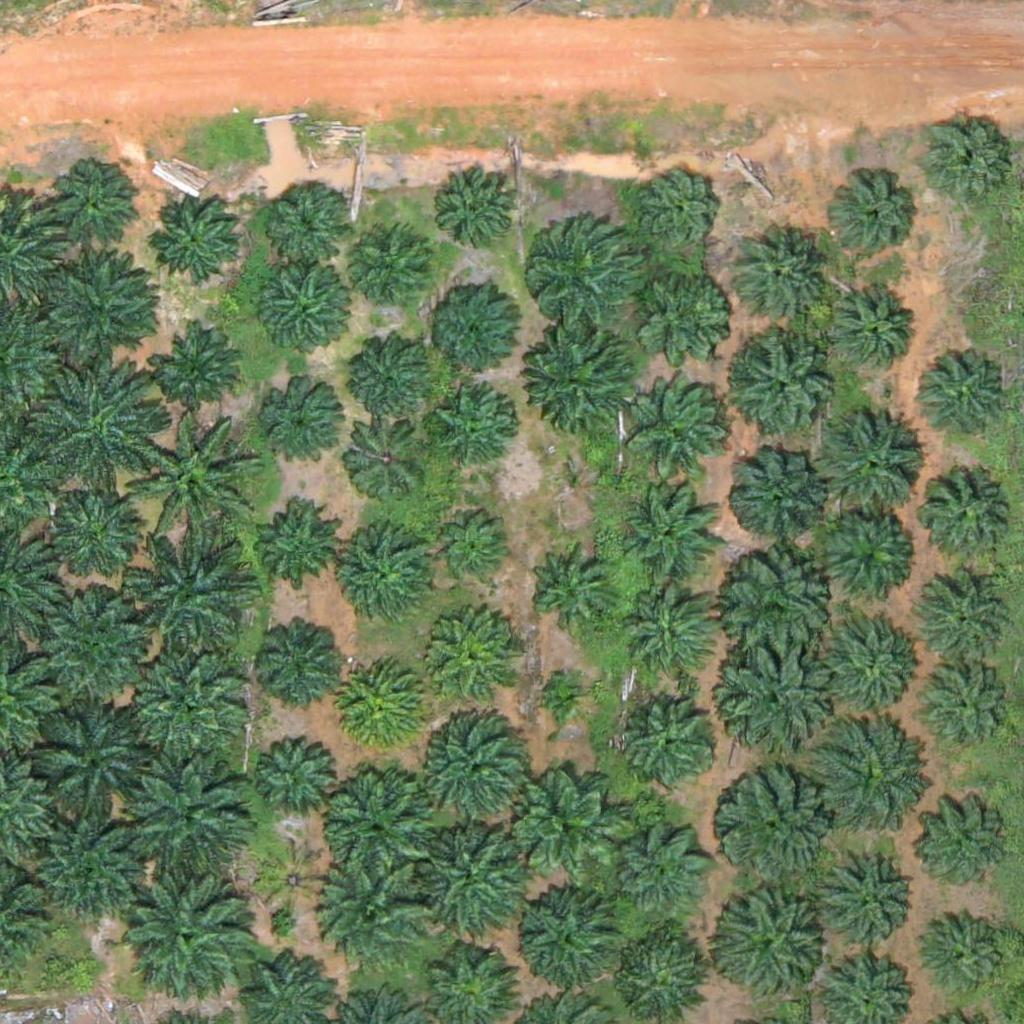Kelapa_Sawit: (29, 365, 154, 491), (29, 591, 154, 717), (26, 698, 151, 824), (27, 807, 152, 933), (121, 762, 246, 888), (129, 874, 254, 1000), (129, 534, 254, 660), (126, 418, 251, 544), (308, 850, 433, 976), (414, 706, 539, 832), (411, 822, 536, 948), (506, 762, 631, 888), (523, 212, 648, 338), (33, 244, 158, 369), (124, 637, 249, 762), (817, 717, 930, 830), (715, 644, 828, 757), (321, 764, 433, 878), (811, 405, 923, 518), (728, 333, 840, 446), (721, 552, 833, 665), (907, 349, 1007, 450), (912, 570, 1012, 671), (913, 659, 1013, 760), (822, 611, 922, 712), (814, 503, 914, 604), (730, 225, 830, 326), (717, 768, 817, 869), (516, 889, 616, 990), (611, 827, 711, 928), (622, 692, 722, 793), (622, 588, 722, 689), (617, 482, 717, 583), (632, 379, 732, 480), (535, 330, 635, 431), (916, 464, 1016, 564), (726, 445, 826, 545), (339, 530, 439, 630), (636, 257, 736, 357), (723, 890, 823, 990), (920, 114, 1008, 202), (824, 853, 912, 941), (823, 285, 911, 373), (54, 490, 142, 578), (257, 269, 345, 357), (262, 384, 350, 472), (250, 496, 338, 584), (254, 613, 342, 701), (340, 661, 428, 749), (426, 619, 514, 707), (154, 322, 241, 411), (428, 285, 515, 374), (921, 905, 1008, 994), (260, 177, 347, 265), (347, 331, 434, 419), (917, 798, 1004, 886), (833, 174, 920, 262), (51, 167, 138, 255), (149, 193, 236, 281), (253, 732, 340, 820), (342, 412, 429, 500), (350, 223, 437, 311), (436, 166, 523, 254), (433, 393, 520, 481), (637, 170, 724, 258), (527, 543, 614, 631), (438, 509, 513, 584), (260, 845, 322, 908), (540, 668, 590, 718)
